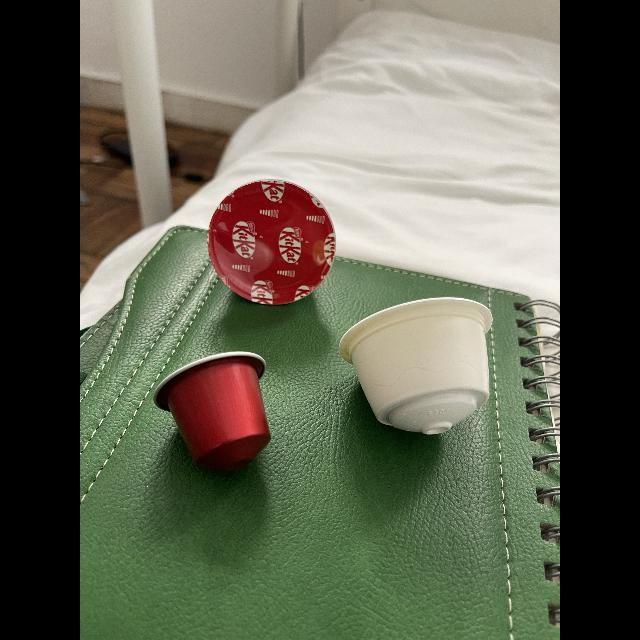intact_capsule: (329, 297, 505, 447), (196, 176, 346, 316), (145, 342, 277, 478)
